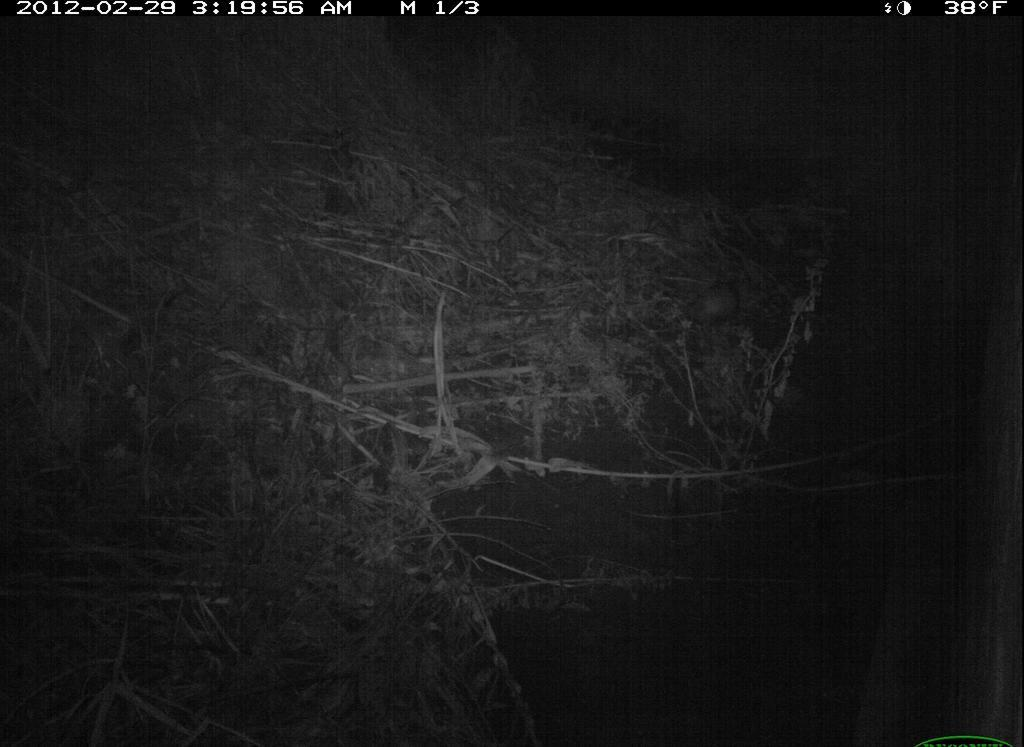opossum: (673, 260, 754, 344)
